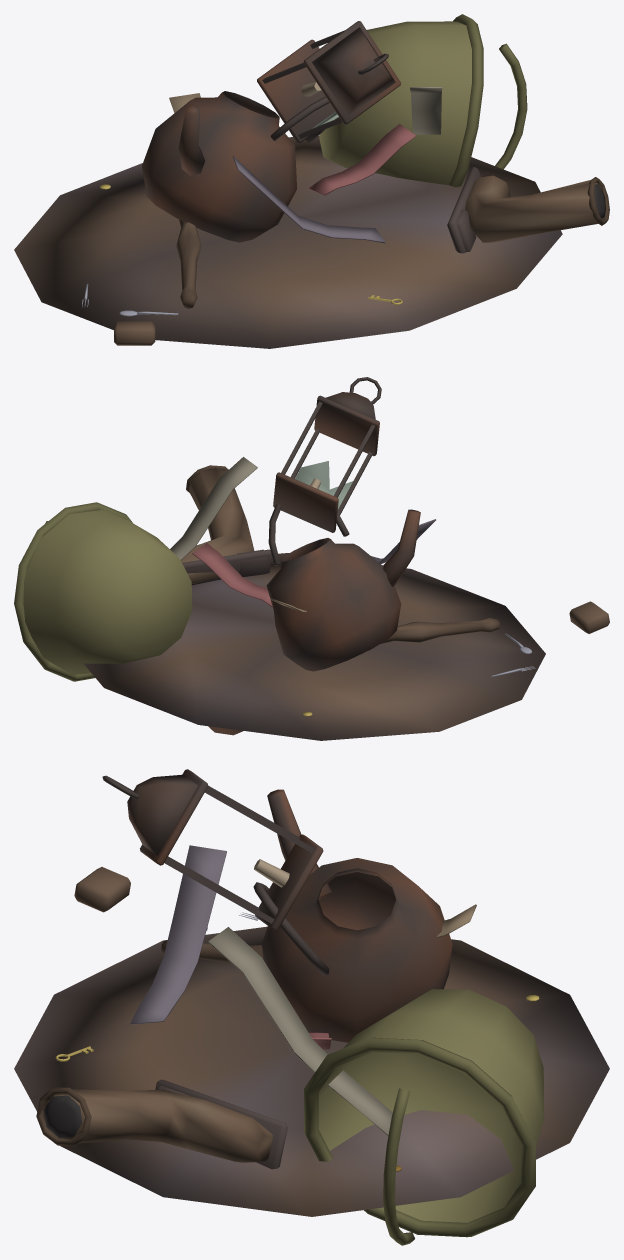
Rendered from camp_gloamer_squabble_pile.glb.
3 renders of one model, top to bottom at view 1: azimuth 30°, elevation 25°; view 2: azimuth 150°, elevation 25°; view 3: azimuth 270°, elevation 25°, orthographic. The views are drawn at different scales.
Parts seen in each view (by area): view 1: camp_gloamer_squabble_pile; view 2: camp_gloamer_squabble_pile; view 3: camp_gloamer_squabble_pile.
Part boxes in pixels (<box>): camp_gloamer_squabble_pile: <box>14,14,609,348</box>; camp_gloamer_squabble_pile: <box>14,377,609,740</box>; camp_gloamer_squabble_pile: <box>14,769,609,1245</box>.
Size of what is drawn, in the model's own units: 1.33 by 0.7263 by 1.05.
